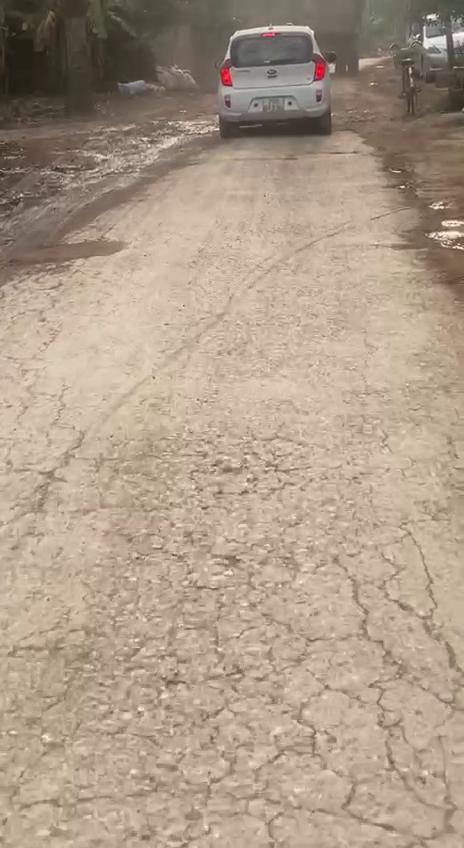pothole: (6, 236, 129, 268)
